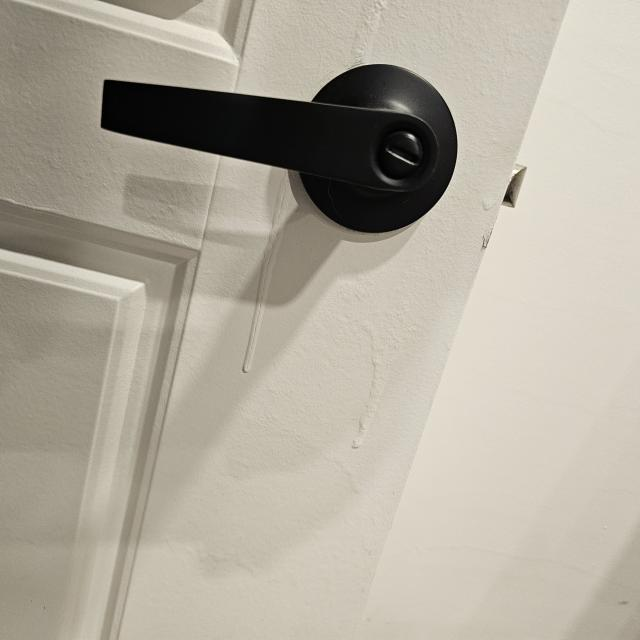door-handle: (101, 64, 458, 232)
